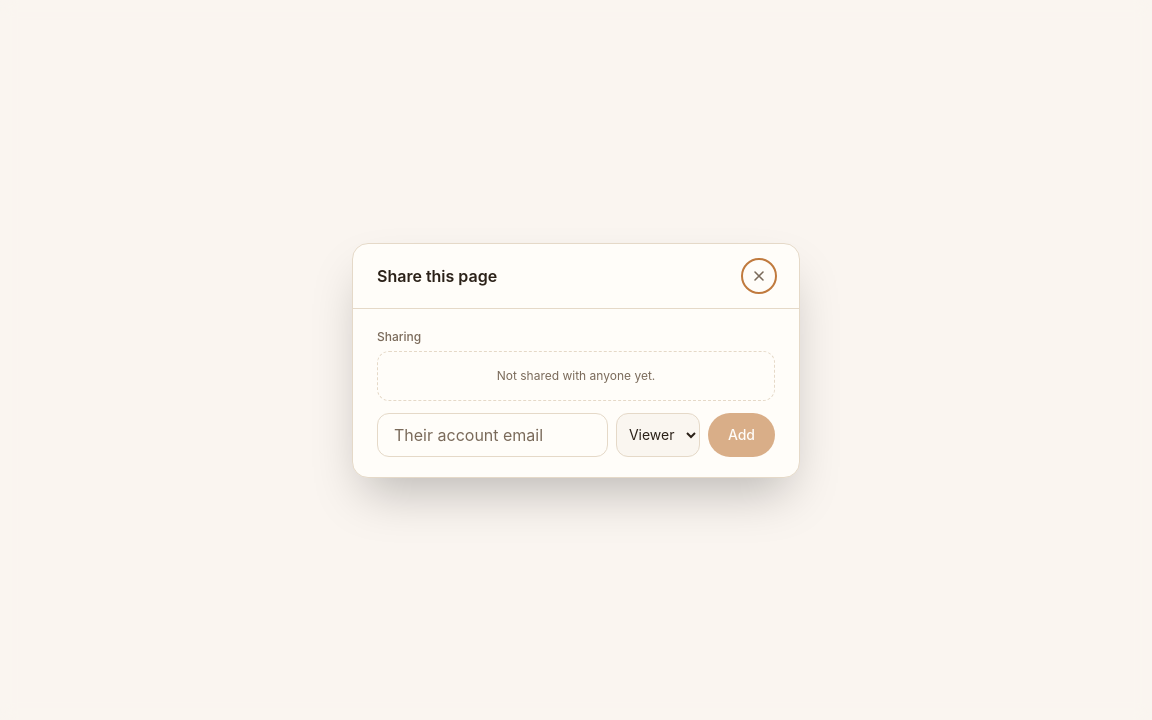
Test: SharePageDialog › maps share_target_not_found to its own copy
Type "ghost@example.com" into the field labelled "Their account email" at [492, 434], box [377,412,608,456]
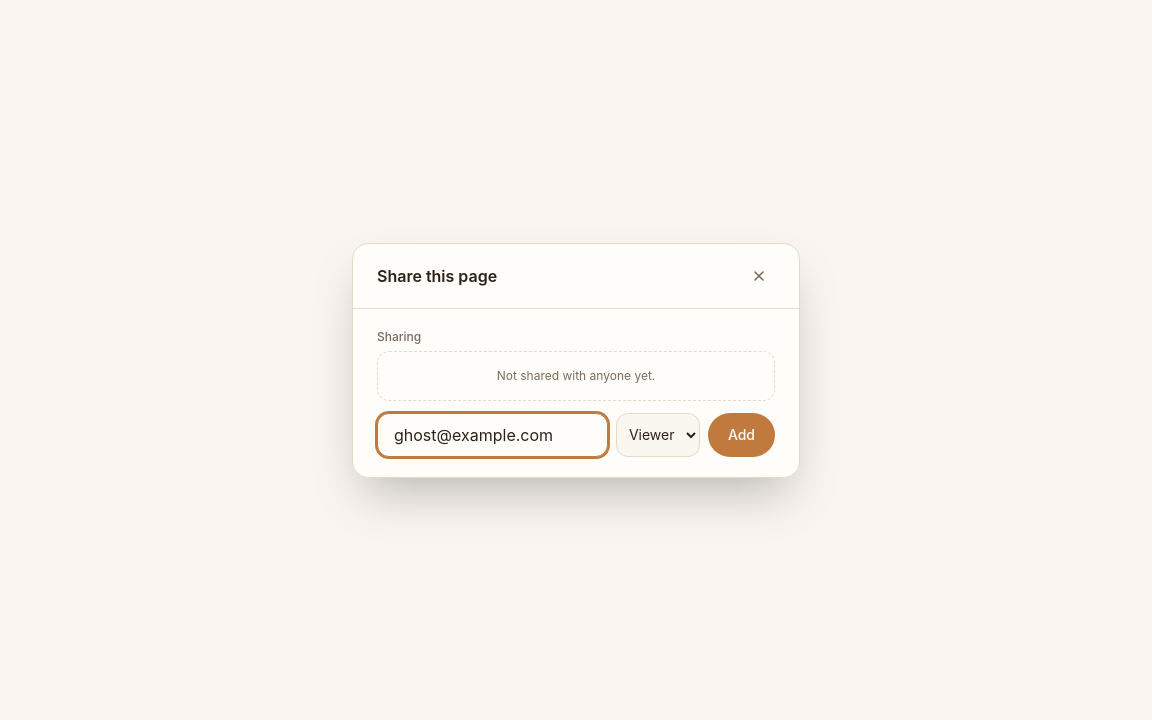
Click the button "Add" at [741, 434], box [708,412,775,456]
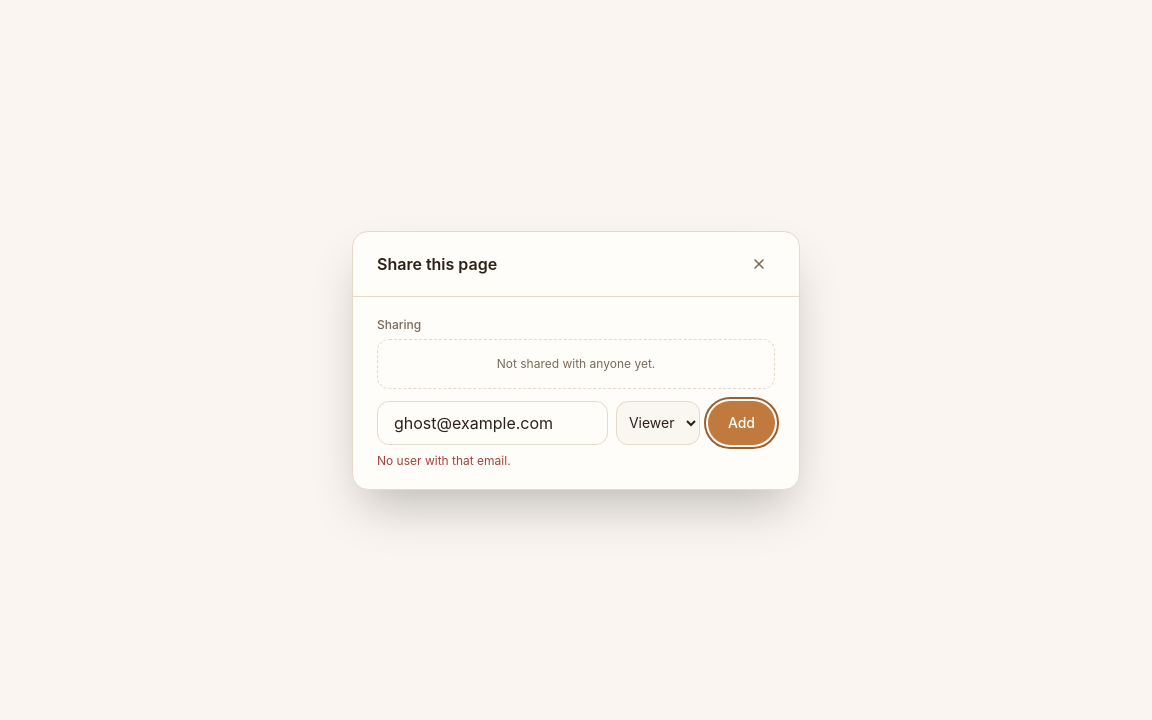
Expected: the text "No user with that email." is shown, [377,452,511,468]
